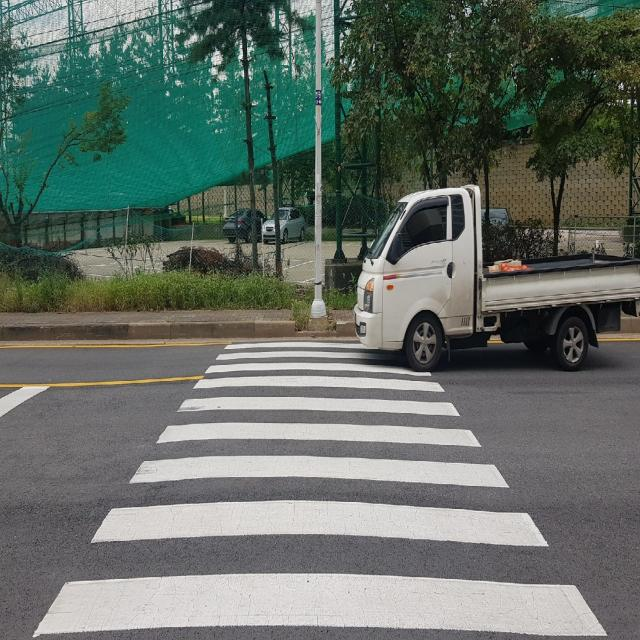횡단보도: (30, 342, 610, 640)
